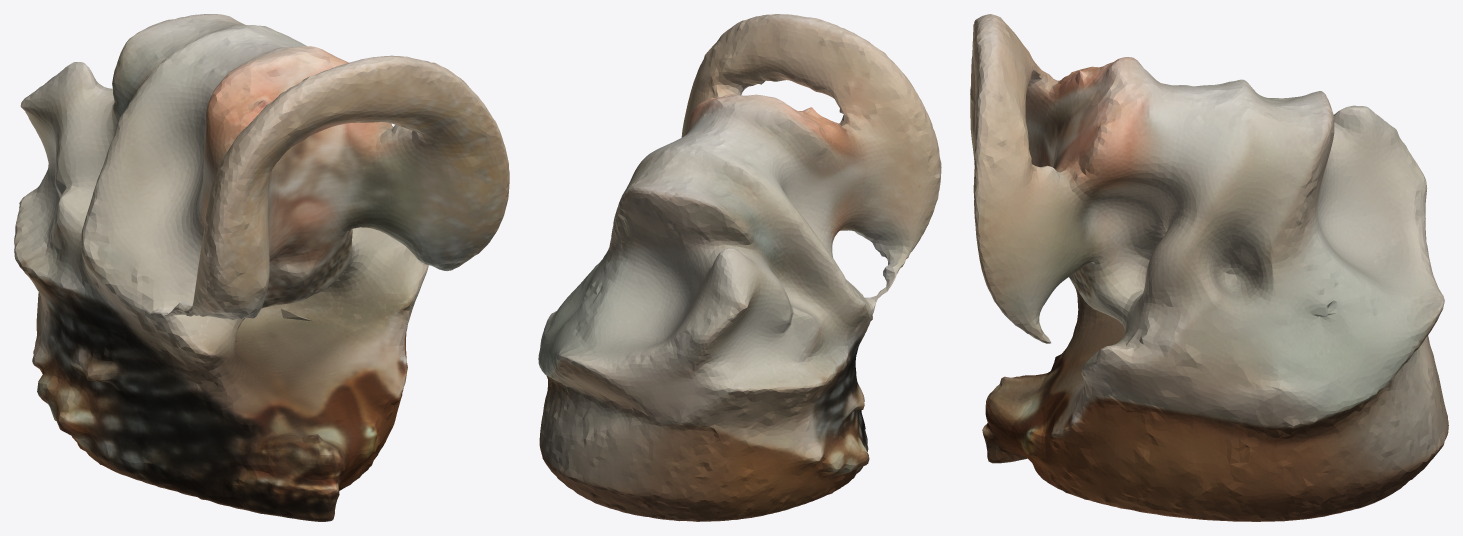
File: IMG_SEG_45.glb
3 views of the same model, side by side, from view 1: azimuth 30°, elevation 25°; view 2: azimuth 150°, elevation 25°; view 3: azimuth 270°, elevation 25° (orthographic). The views are drawn at different scales.
Bounding box in the file's own units: 0.6754 × 0.8412 × 0.8258.
Materials: 1 (1 with a texture image).
